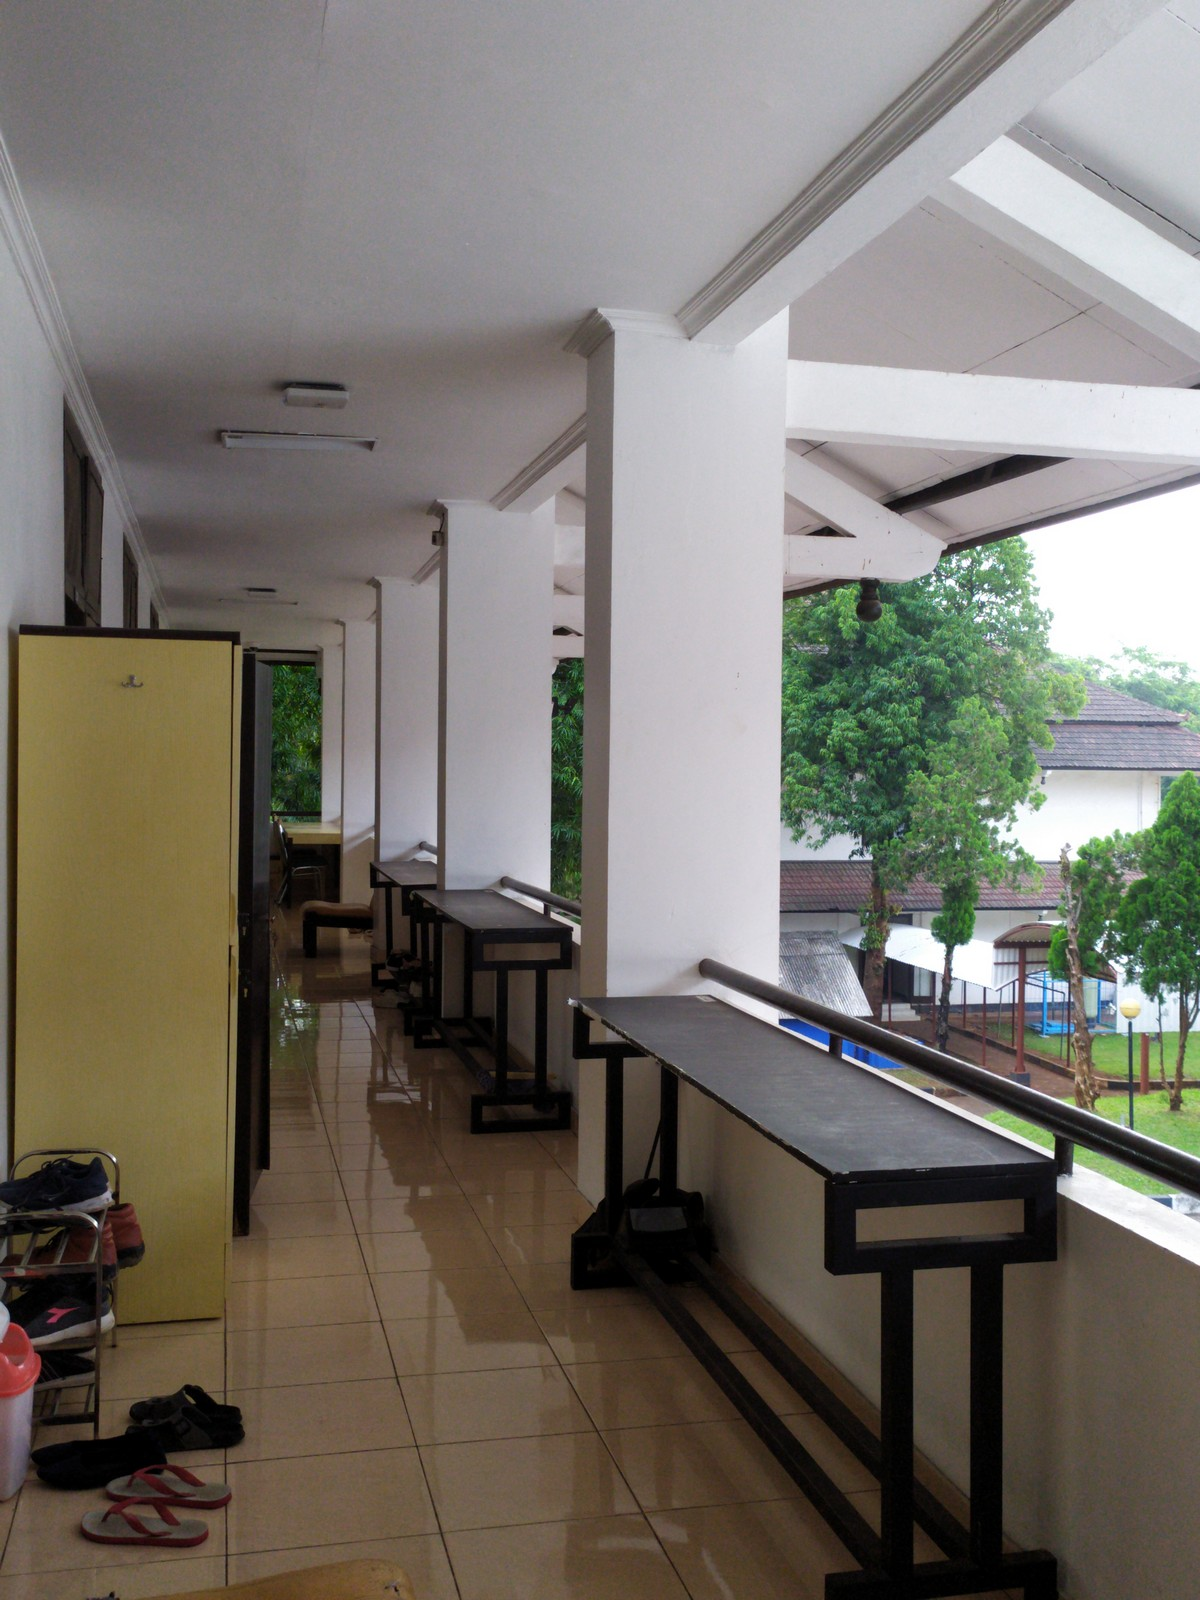concrete beam: (768, 350, 1192, 474)
concrete column: (572, 328, 803, 1209), (429, 493, 560, 1041), (366, 572, 447, 981)
